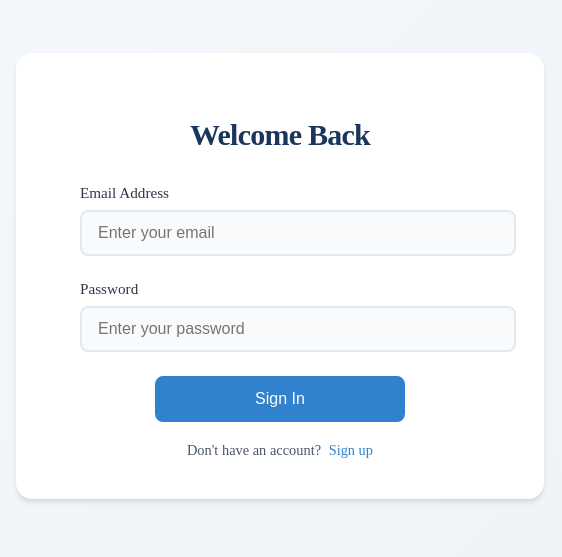
Login Component › shows error message on failed login
This screenshot has width=562, height=557.
Type "bad@test.com" into the field labelled "Email Address" at (298, 233), box top-left (80, 210), bottom-right (516, 256)
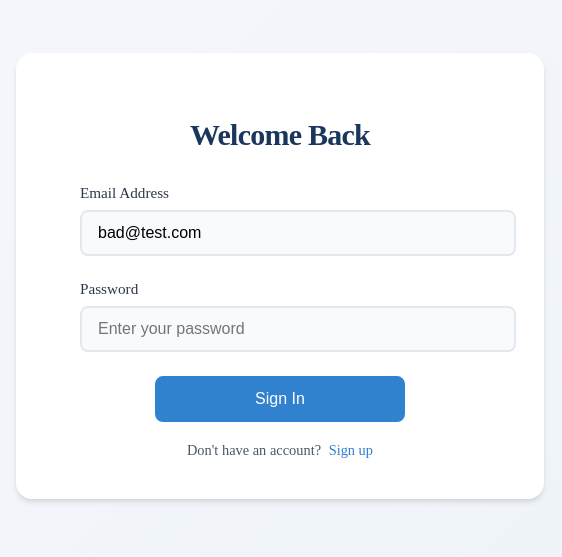
Type "wrong" into the password field labelled "Password" at (298, 329), box top-left (80, 306), bottom-right (516, 352)
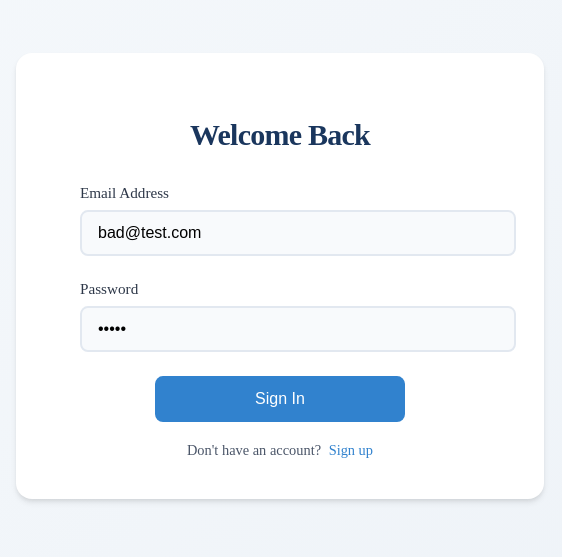
Click the button "Sign In" at (280, 399), box top-left (155, 376), bottom-right (405, 422)
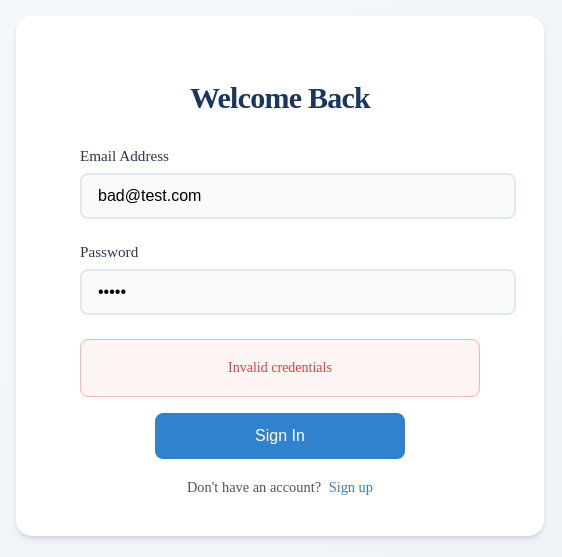
expect the text "Invalid credentials" is shown: met, box top-left (80, 339), bottom-right (480, 397)
